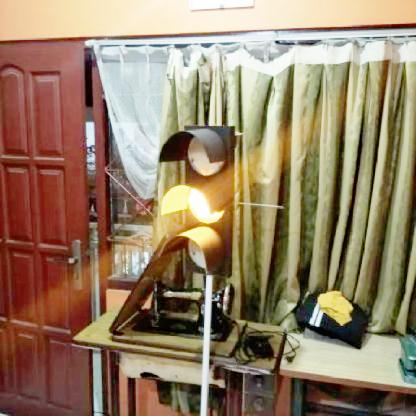Traffic Light -Yellow-: (160, 127, 233, 281)
